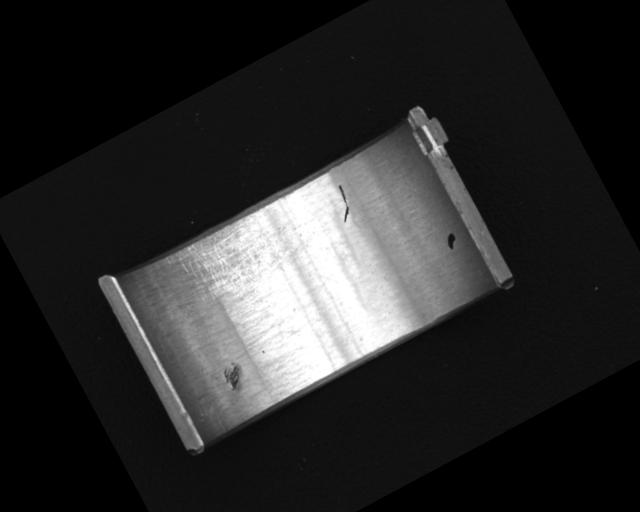blot: (442, 230, 461, 251)
bruise: (217, 358, 250, 394)
nick: (327, 183, 358, 222)
scratch: (164, 198, 309, 319)
